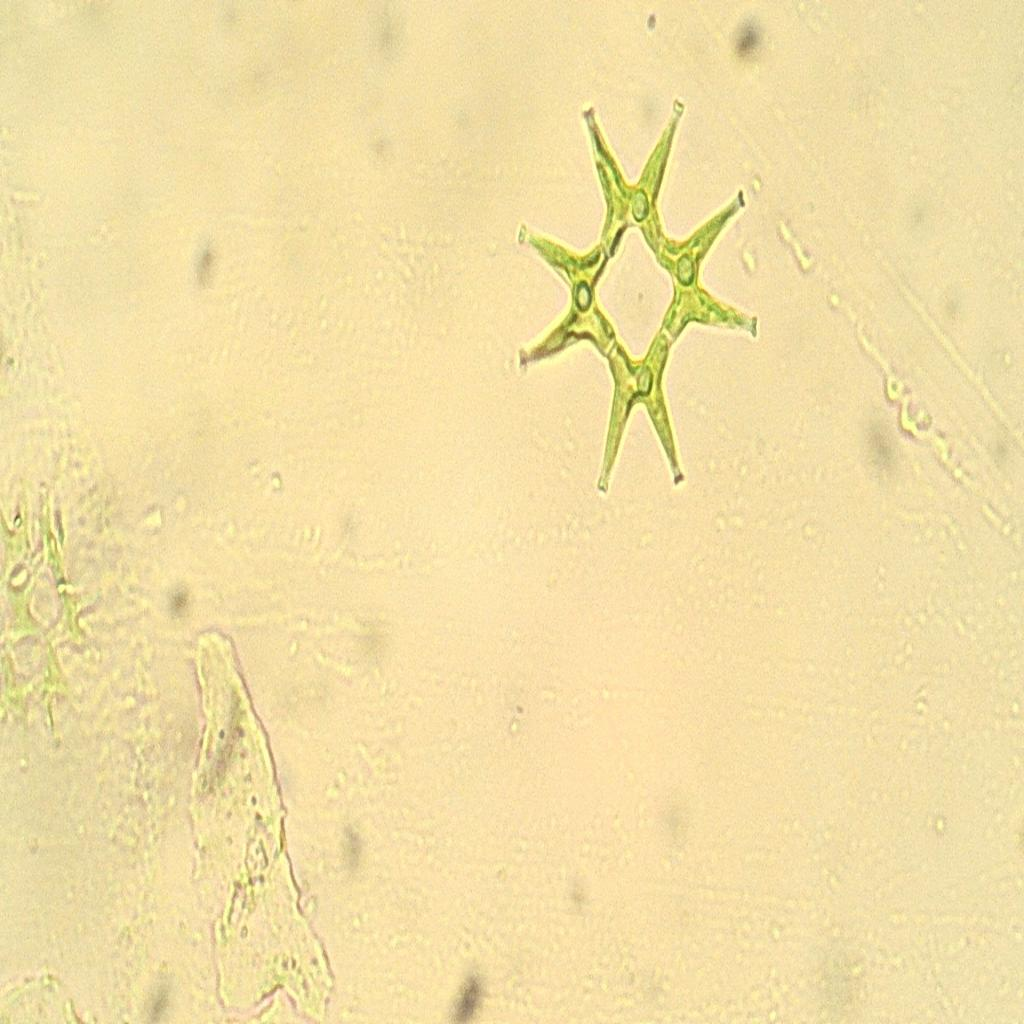Pediastrum_CO: (500, 79, 778, 518)
